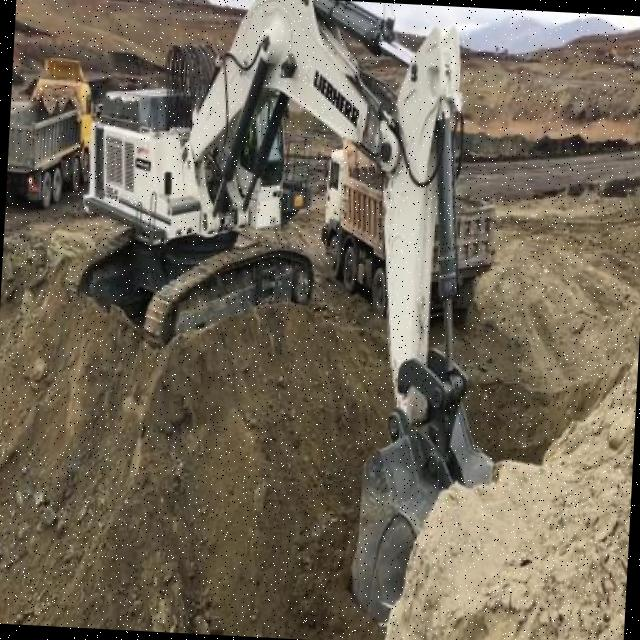Dump Truck: (319, 136, 504, 322), (6, 52, 98, 206)
Excavator: (55, 0, 526, 638)
